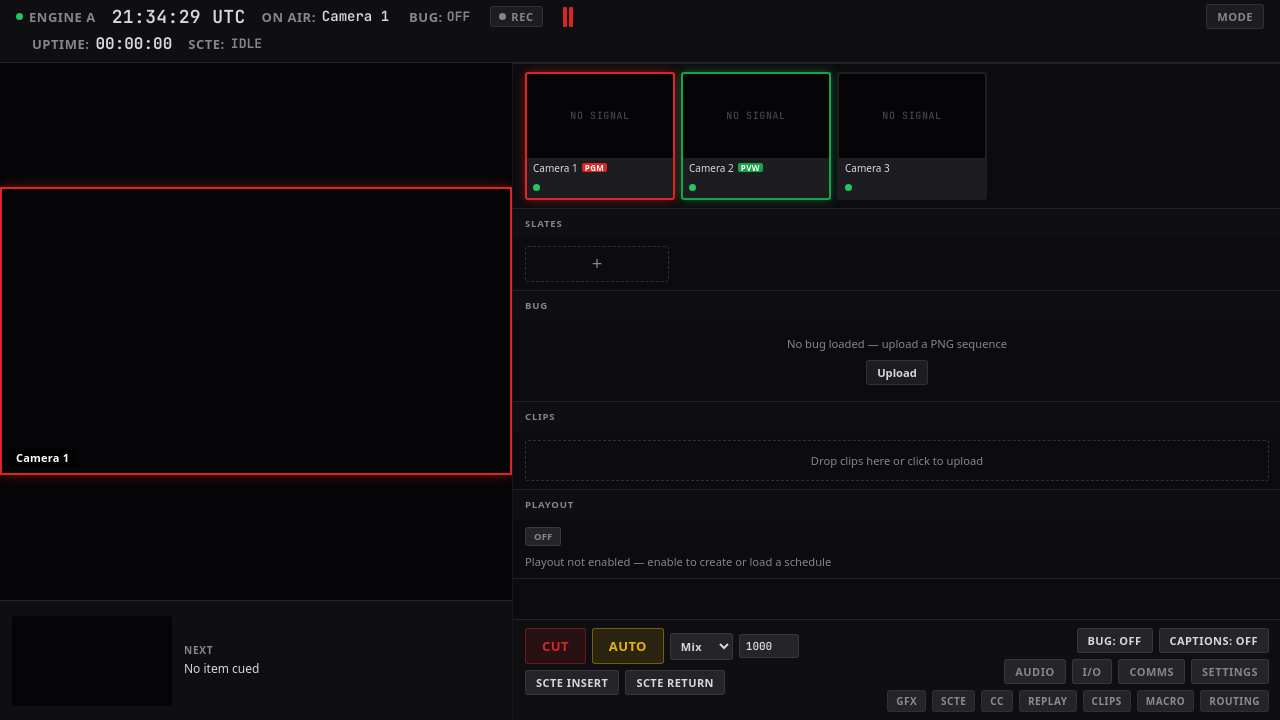
OnAirController › opens graphics slide-out when GFX button clicked
What coordinates should you click on to do the following:
click the button titled "Toggle graphics/compose panel"
I would click on:
 (907, 701)
Its box is left=887, top=690, right=926, bottom=712.
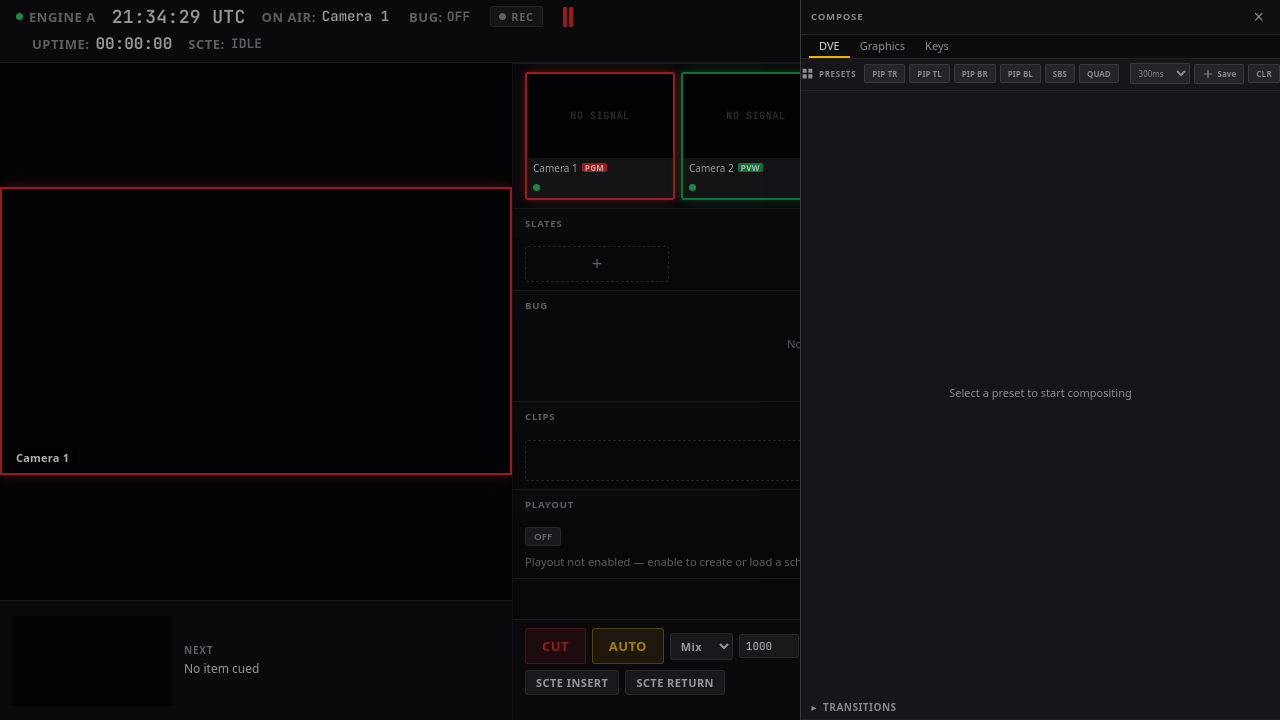
Result: the button "DVE" is shown at left=809, top=35, right=850, bottom=58
Result: the button "Graphics" is shown at left=850, top=35, right=915, bottom=58
Result: the button "Keys" is shown at left=915, top=35, right=959, bottom=58
